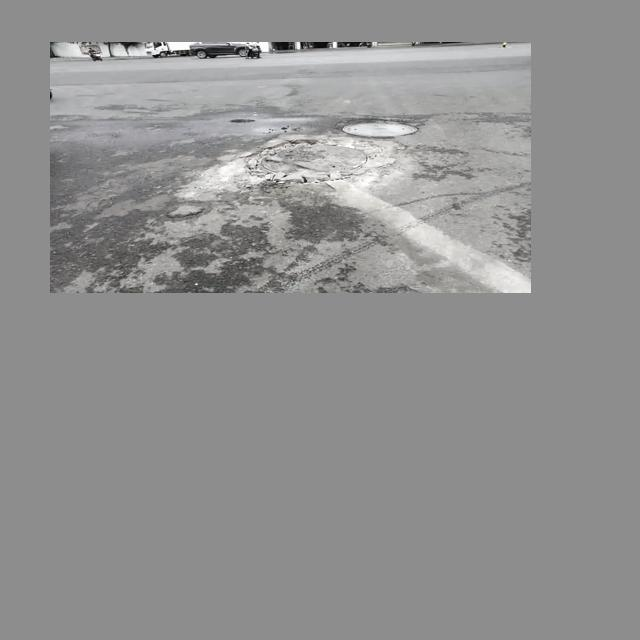circle: (207, 134, 393, 205)
